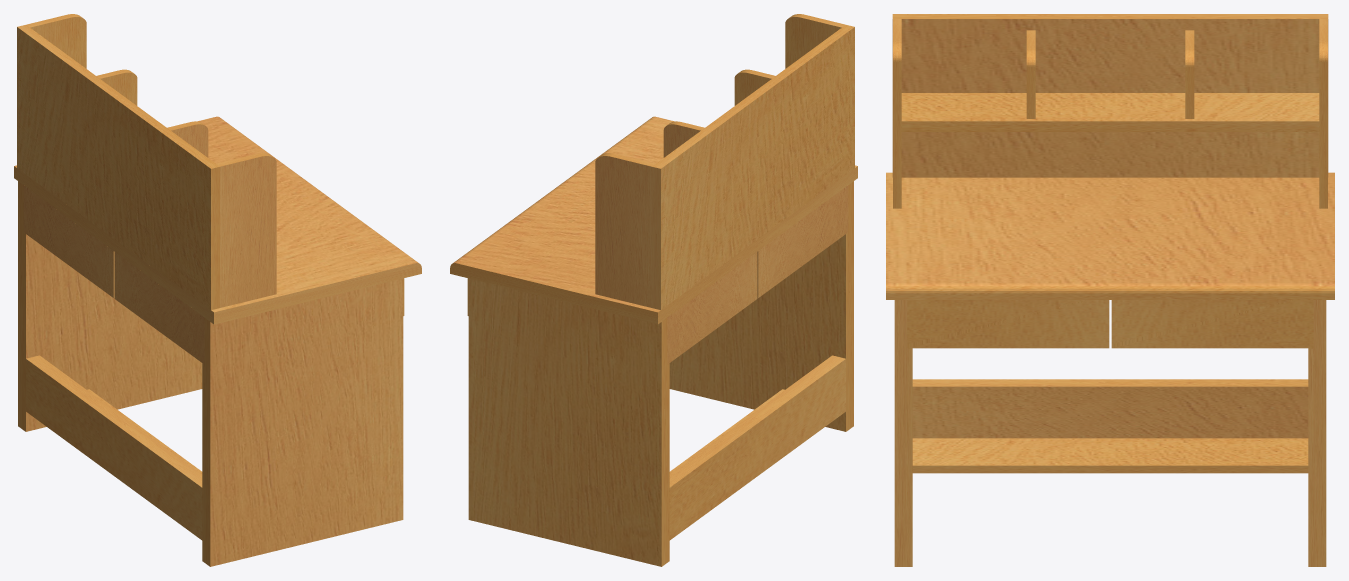
File: desk.fbx
3 views of the same model, side by side, from view 1: azimuth 30°, elevation 25°; view 2: azimuth 150°, elevation 25°; view 3: azimuth 270°, elevation 25° (orthographic). The views are drawn at different scales.
Visible parts, largest first — view 1: Cube.002; view 2: Cube.002; view 3: Cube.002.
Part boxes in pixels (x1=…): Cube.002: x1=14, y1=14, x2=421, y2=566; Cube.002: x1=450, y1=14, x2=857, y2=566; Cube.002: x1=886, y1=14, x2=1334, y2=566.
Bounding box in the file's own units: 60 × 110 × 100.
